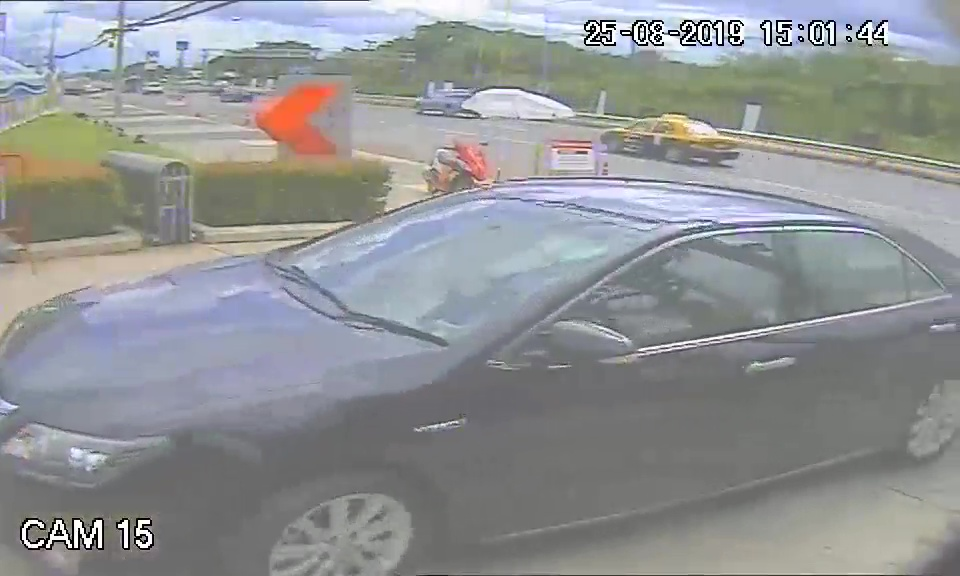sedan: (2, 183, 960, 572)
